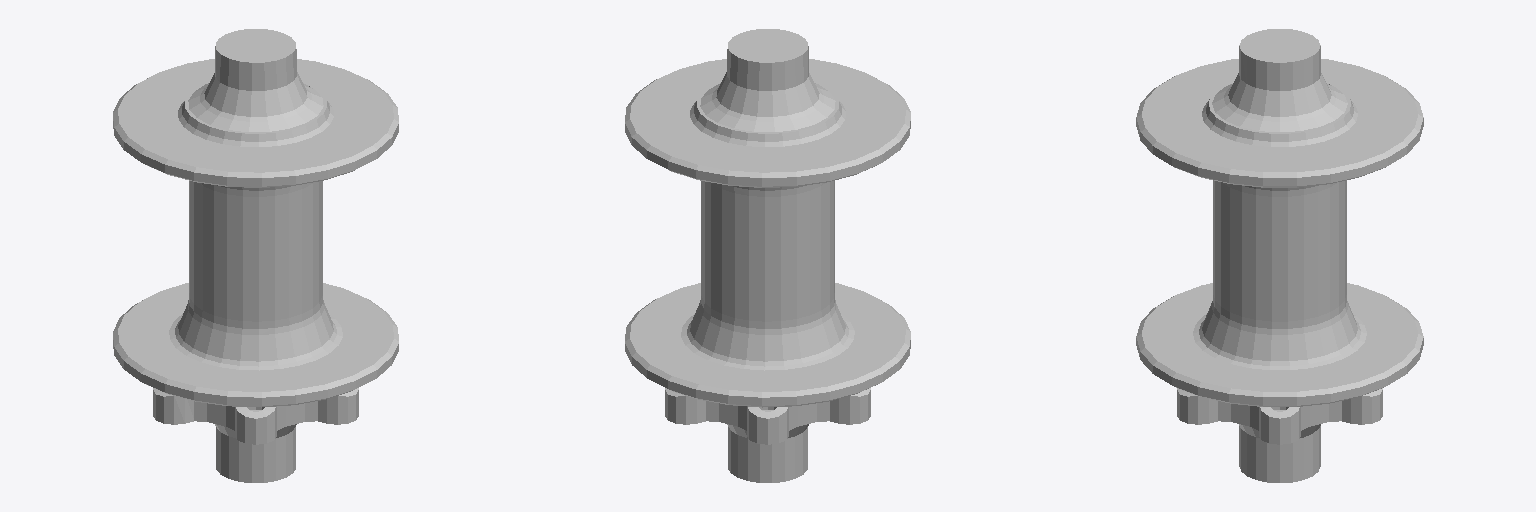
The model's file is MTB_Hub_front-sharedassets2MTB.assets-17004.obj.
3 renders of one model, left to right at view 1: azimuth 30°, elevation 25°; view 2: azimuth 150°, elevation 25°; view 3: azimuth 270°, elevation 25°, orthographic.
Parts seen in each view (by area): view 1: MTB_Hub_front_0; view 2: MTB_Hub_front_0; view 3: MTB_Hub_front_0.
Boxes of the visible parts, x1,y1,x2,y2 form: MTB_Hub_front_0: [113, 29, 398, 482]; MTB_Hub_front_0: [625, 29, 910, 482]; MTB_Hub_front_0: [1136, 29, 1423, 482].
Bounding box in the file's own units: 0.0625 × 0.1017 × 0.063.